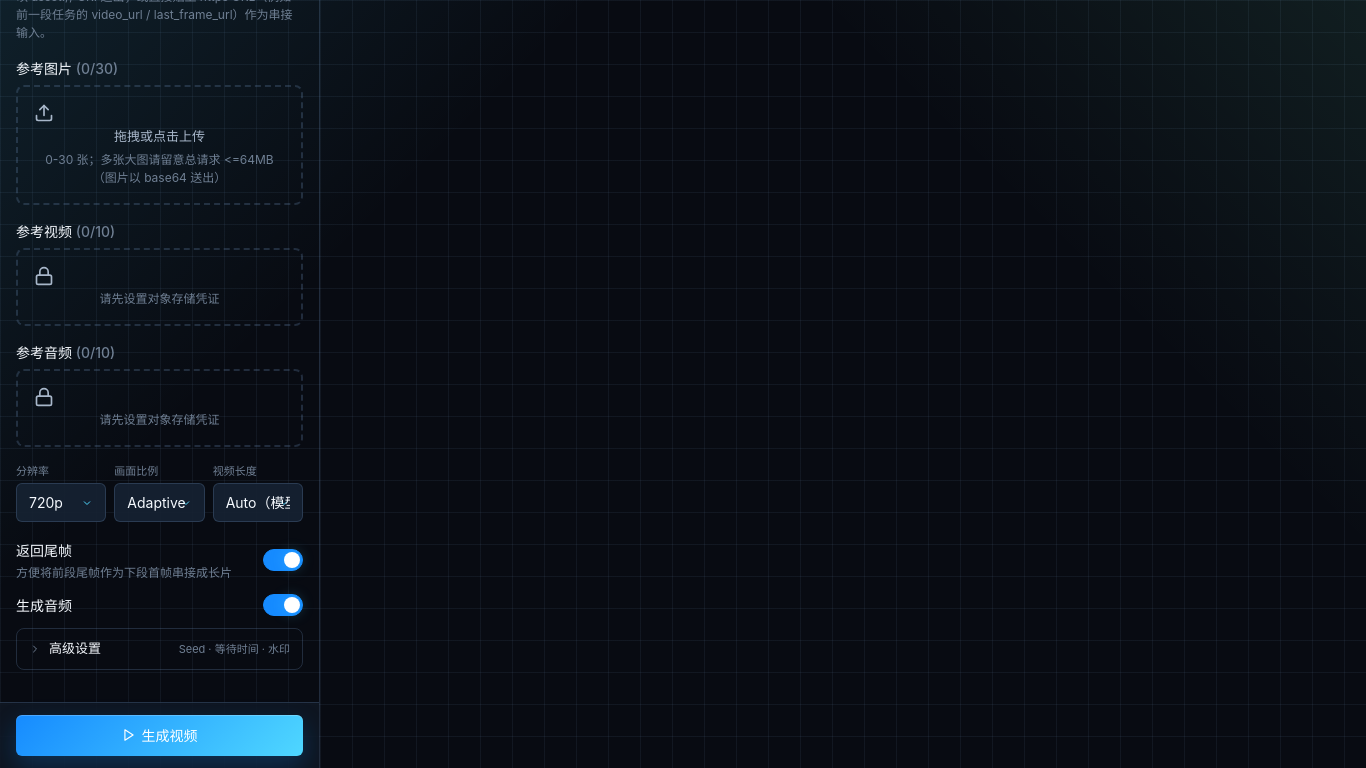
Test: Video25Params › aborts the in-flight optimize request on cancel; a late rejection does not reopen the modal
The image size is (1366, 768).
(page scrolled)
Click the button "生成视频" at {"x": 160, "y": 735}, box [16,714,303,756]
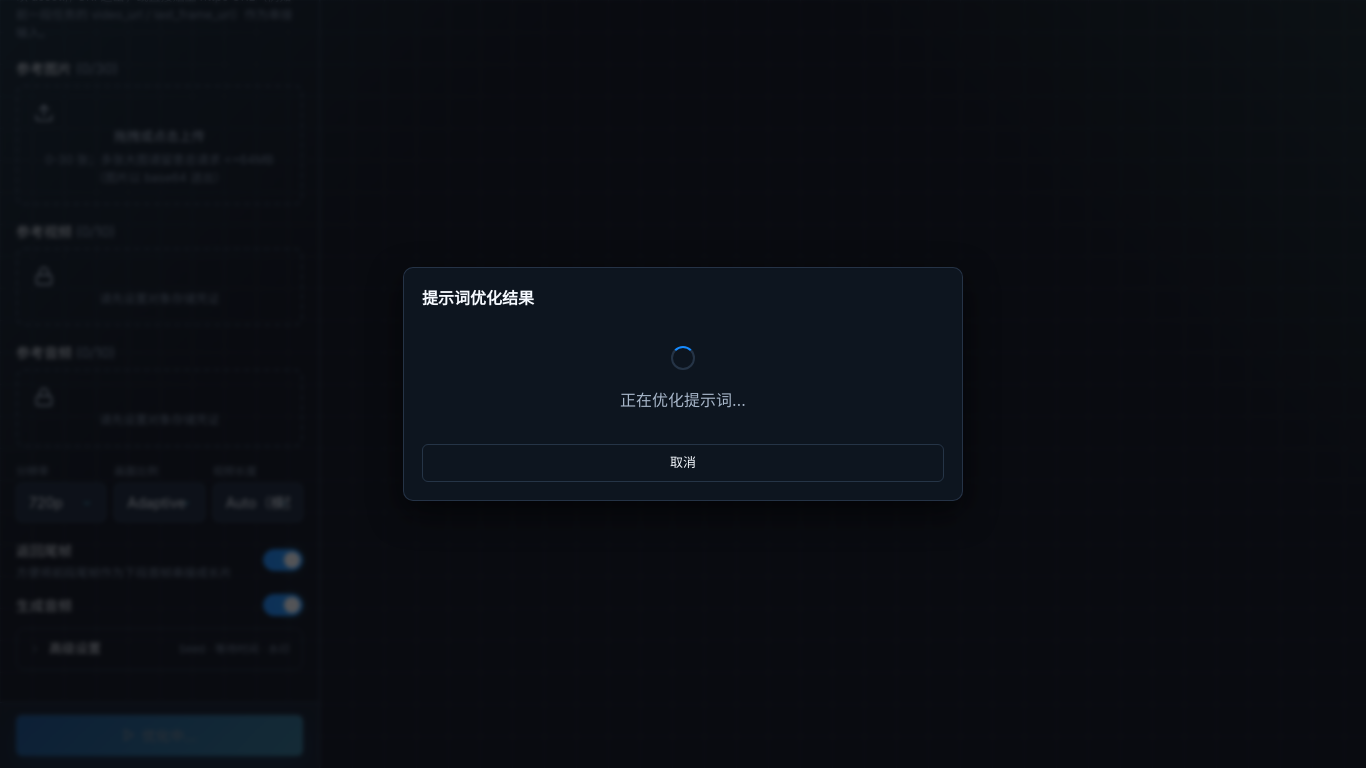
Expected: the dialog is shown
Click the button "取消" at {"x": 683, "y": 463}, box [422,444,944,482]
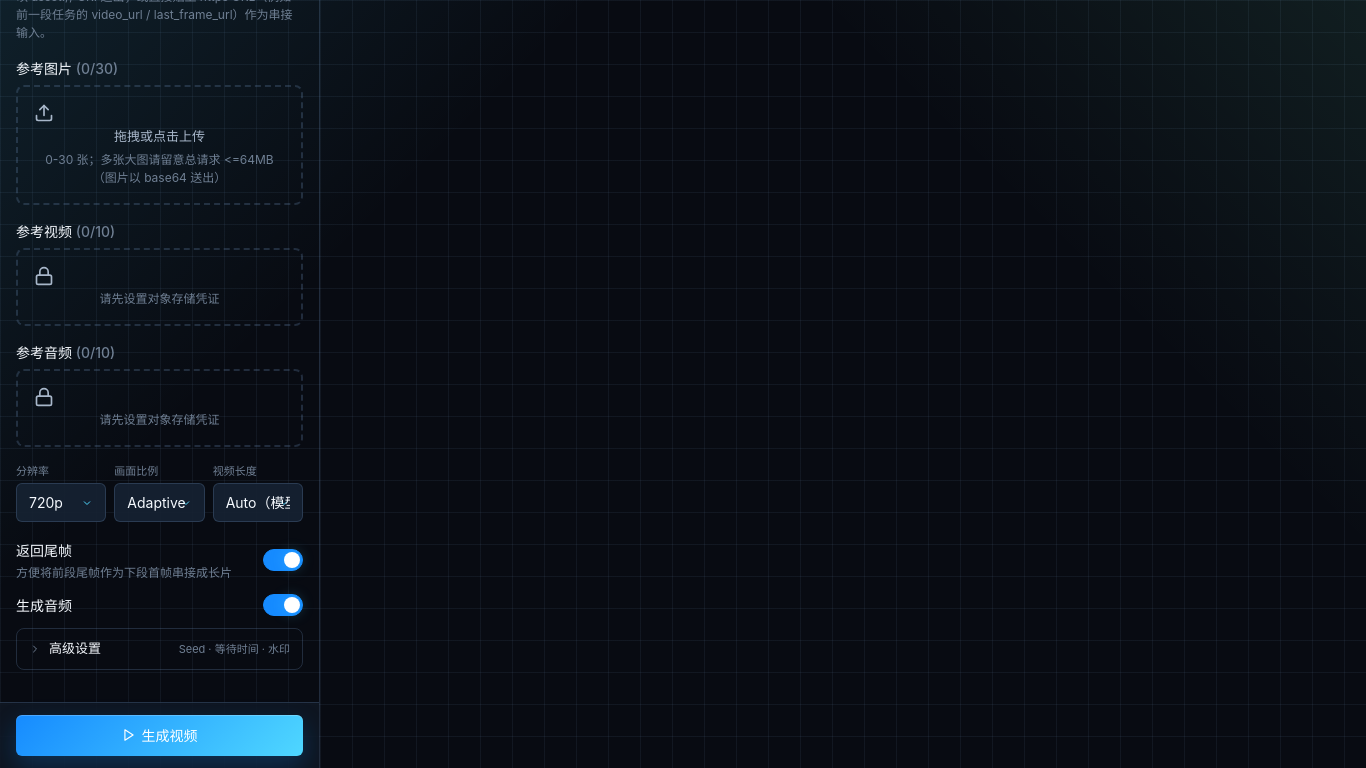
Expected: the dialog is gone
